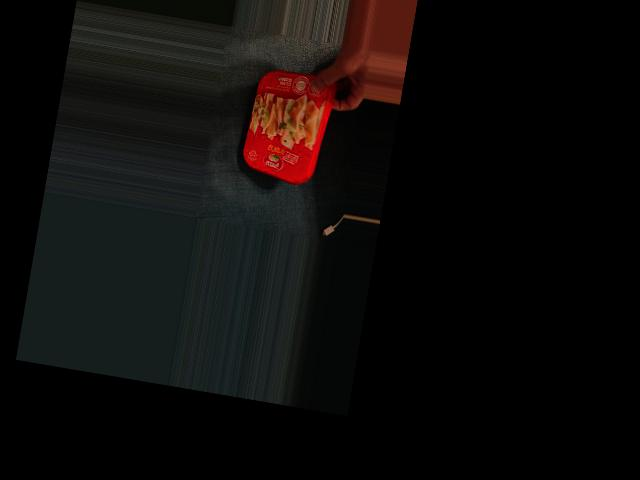cheese: (238, 63, 341, 186)
